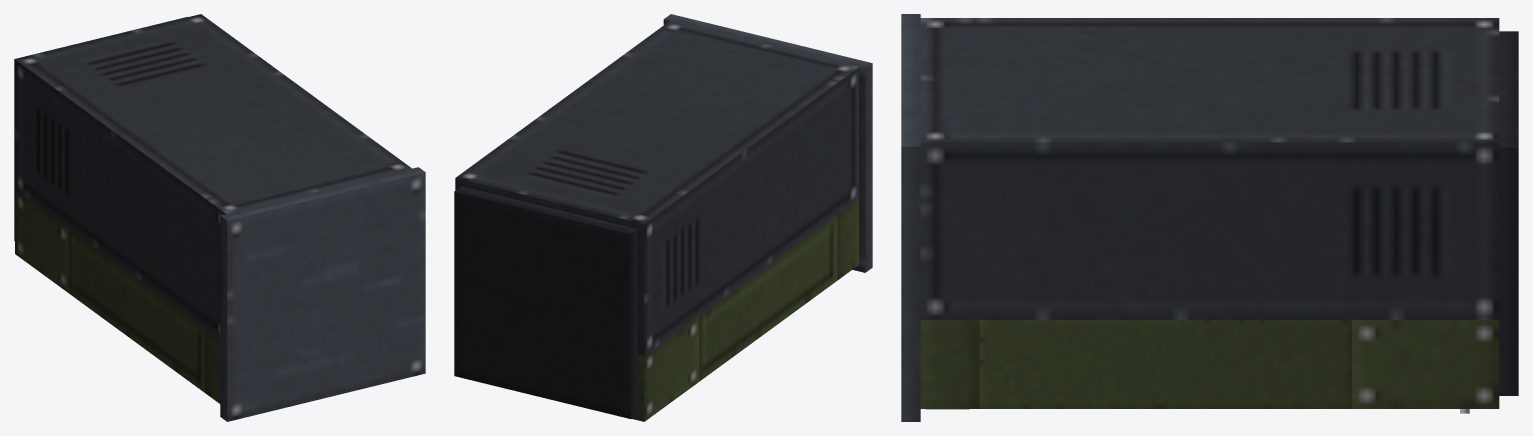
The model's file is exchange_shop.obj.
The picture shows the model from 3 angles, left to right: view 1: azimuth 30°, elevation 25°; view 2: azimuth 150°, elevation 25°; view 3: azimuth 270°, elevation 25°; orthographic projection. The views are drawn at different scales.
Parts seen in each view (by area): view 1: exchange_shop_Body_back, exchange_shop_Top_cap, exchange_shop_Frame_controls, exchange_shop_Frame_bottom, exchange_shop_Frame_top, exchange_shop_Plinth; view 2: exchange_shop_Body_back, exchange_shop_Plinth, exchange_shop_Frame_controls, exchange_shop_Top_cap, exchange_shop_Frame_bottom, exchange_shop_Frame_top; view 3: exchange_shop_Body_back, exchange_shop_Frame_stile, exchange_shop_Frame_bottom, exchange_shop_Top_cap, exchange_shop_Plinth, exchange_shop_Frame_top.
Part boxes in pixels (x1,y1,x2,y2): exchange_shop_Body_back: (15,14,411,338); exchange_shop_Top_cap: (220,167,425,421); exchange_shop_Frame_controls: (69,229,204,392); exchange_shop_Frame_bottom: (15,189,68,293); exchange_shop_Frame_top: (205,328,220,403); exchange_shop_Plinth: (14,17,187,240); exchange_shop_Body_back: (455,21,858,355); exchange_shop_Plinth: (454,186,637,418); exchange_shop_Frame_controls: (699,215,837,381); exchange_shop_Top_cap: (663,14,872,272); exchange_shop_Frame_bottom: (631,316,698,421); exchange_shop_Frame_top: (837,199,858,280); exchange_shop_Body_back: (920,18,1499,319); exchange_shop_Frame_stile: (979,320,1351,408); exchange_shop_Frame_bottom: (1352,320,1499,408); exchange_shop_Top_cap: (901,14,920,421); exchange_shop_Plinth: (1499,31,1518,395); exchange_shop_Frame_top: (920,320,979,408).
Bounding box in the file's own units: 1 × 0.9688 × 1.97.
